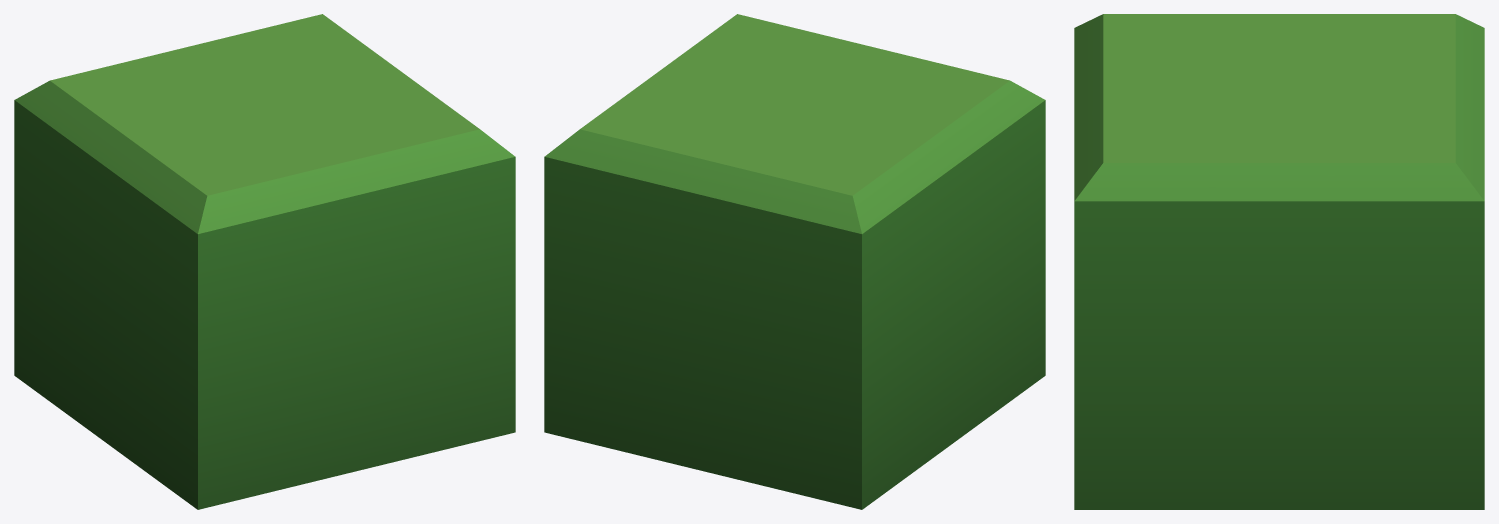
File: jelly.glb
The picture shows the model from 3 angles, left to right: view 1: azimuth 30°, elevation 25°; view 2: azimuth 150°, elevation 25°; view 3: azimuth 270°, elevation 25°; orthographic projection. The views are drawn at different scales.
Parts seen in each view (by area): view 1: jelly; view 2: jelly; view 3: jelly.
Part boxes in pixels (x1=…): jelly: x1=14, y1=14, x2=515, y2=509; jelly: x1=544, y1=14, x2=1045, y2=509; jelly: x1=1074, y1=14, x2=1484, y2=509.
Bounding box in the file's own units: 0.17 × 0.153 × 0.17.
